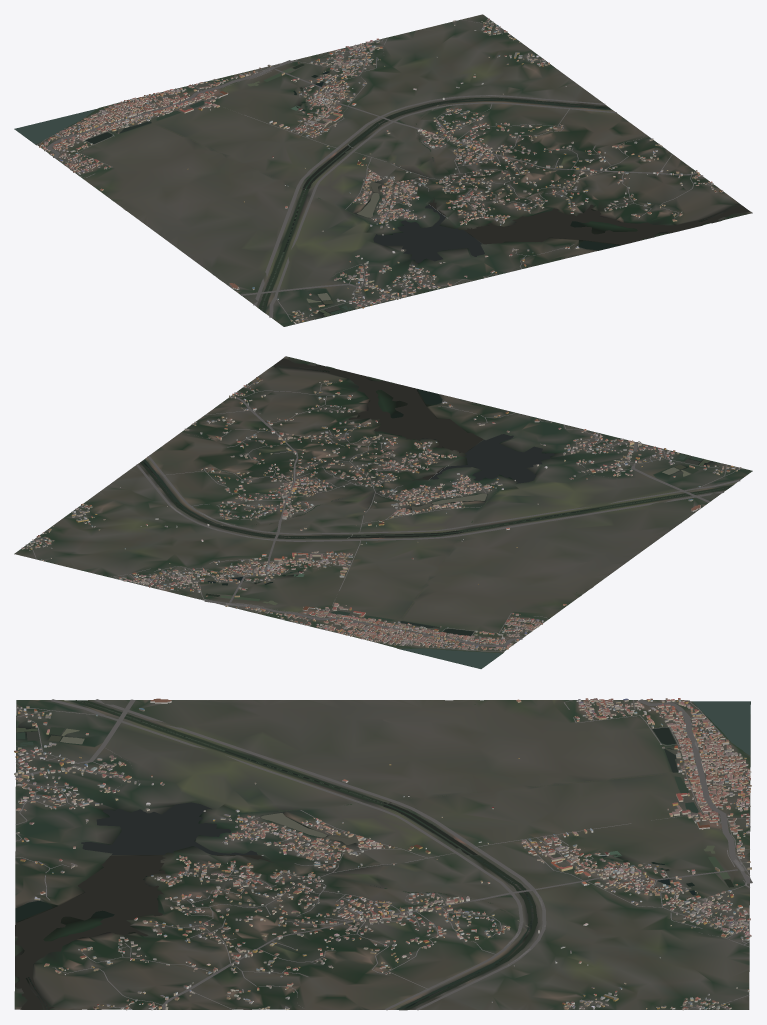
3 views of the same model, one above another, from view 1: azimuth 30°, elevation 25°; view 2: azimuth 150°, elevation 25°; view 3: azimuth 270°, elevation 25° (orthographic). The views are drawn at different scales.
Visible parts, largest first — view 1: ground, buildings, water, roads; view 2: ground, buildings, water, roads; view 3: ground, buildings, water, roads.
Boxes of the visible parts, x1,y1,x2,y2 form: ground: (14,14,752,326); buildings: (39,18,723,323); water: (14,64,749,318); roads: (37,20,714,323); ground: (14,356,752,668); buildings: (21,377,741,650); water: (140,358,733,668); roads: (28,382,740,651); ground: (14,700,750,1010); buildings: (14,698,751,1010); water: (15,700,750,1009); roads: (15,699,752,1010).
Size of the model in its own units: 2813 by 21.35 by 2821.
